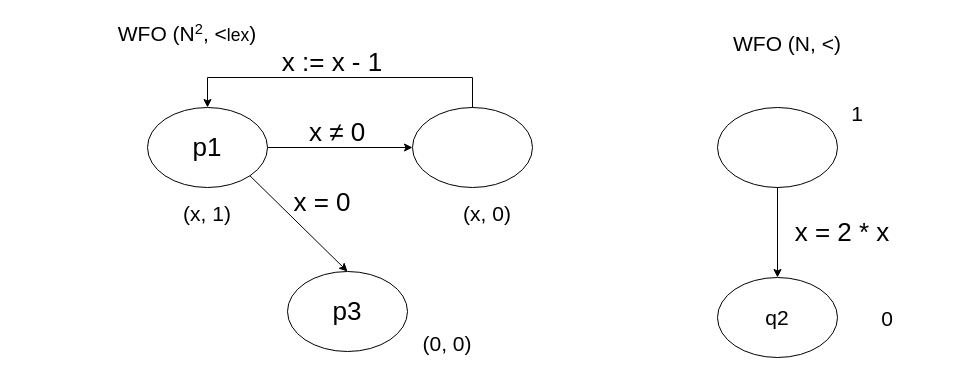
Some shapes in this 974 by 375 pixel diagram are drawn without their labels. The centre of each missing label's shape, as x and y in pixels:
"p2" goes at (x=472, y=147).
"q1" goes at (x=777, y=147).
